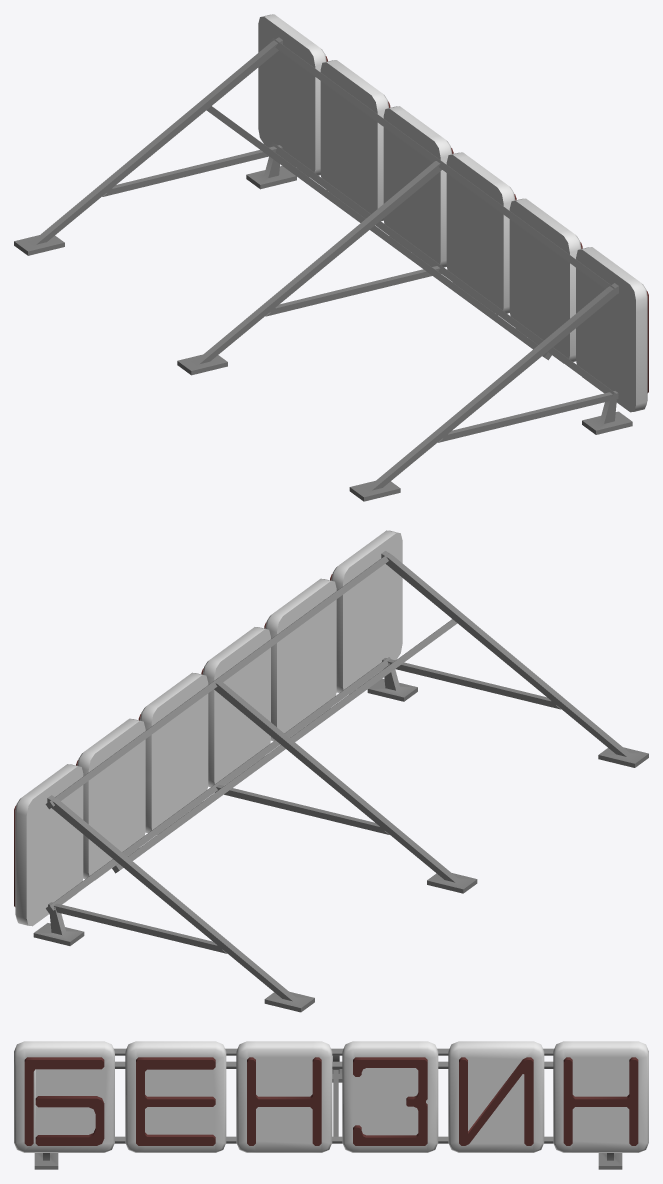
The model's file is SignBoard.fbx.
The picture shows the model from 3 angles, top to bottom: view 1: azimuth 30°, elevation 25°; view 2: azimuth 150°, elevation 25°; view 3: azimuth 270°, elevation 25°; orthographic projection. The views are drawn at different scales.
Visible parts, largest first — view 1: Operator 's room.002; view 2: Operator 's room.002; view 3: Operator 's room.002.
Part boxes in pixels (left/top/right/bottom): Operator 's room.002: left=14, top=14, right=648, bottom=501; Operator 's room.002: left=14, top=530, right=648, bottom=1012; Operator 's room.002: left=14, top=1041, right=648, bottom=1169.
Bounding box in the file's own units: 183 × 99.09 × 429.
